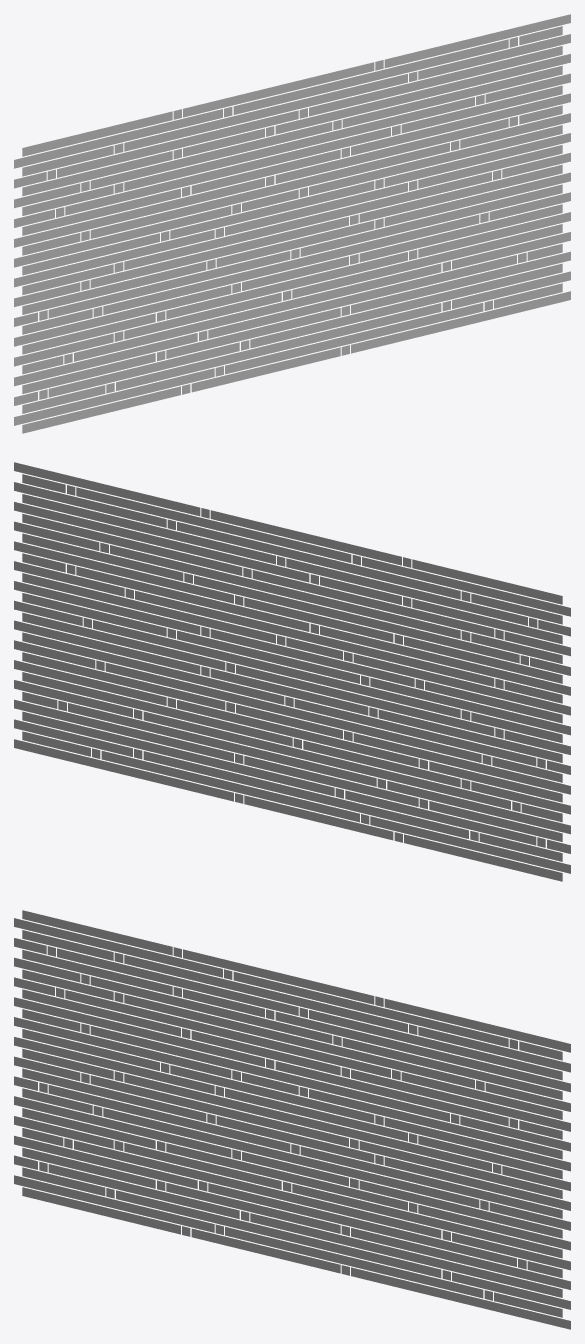
Rendered from bambooydot.gltf.
3 renders of one model, top to bottom at view 1: azimuth 30°, elevation 25°; view 2: azimuth 150°, elevation 25°; view 3: azimuth 330°, elevation 25°, orthographic.
Visible parts, largest first — view 1: bambooydot; view 2: bambooydot; view 3: bambooydot.
Boxes of the visible parts, left/top/right/bottom form: bambooydot: left=14, top=14, right=570, bottom=433; bambooydot: left=14, top=462, right=570, bottom=881; bambooydot: left=14, top=910, right=570, bottom=1329.
Size of the model in its own units: 816 by 400 by 0.
Materials: 145 (145 with a texture image).
